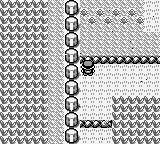captura: (1, 0, 49, 143), (112, 96, 160, 144)
main: (81, 59, 95, 76)
no-caminable: (64, 0, 80, 143)
salto: (81, 56, 160, 63), (80, 120, 112, 128)
